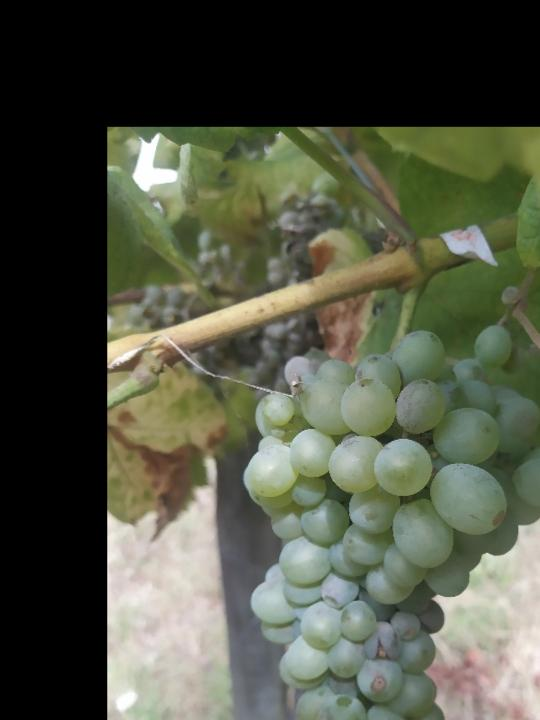grape: (239, 324, 540, 720)
